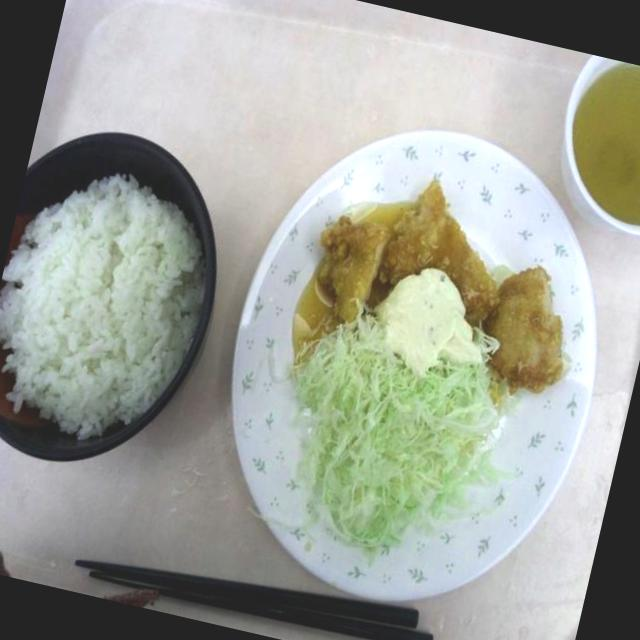Rice: (0, 102, 254, 500)
